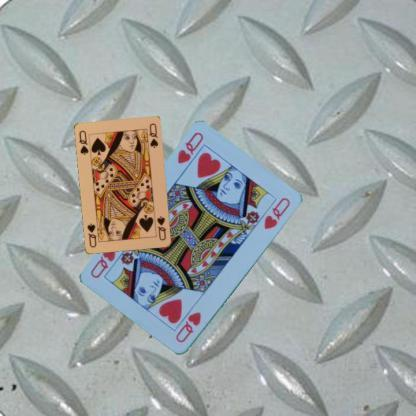Qh: (174, 129, 204, 167), (173, 310, 203, 344)
Qs: (76, 128, 90, 156), (154, 214, 166, 243)
